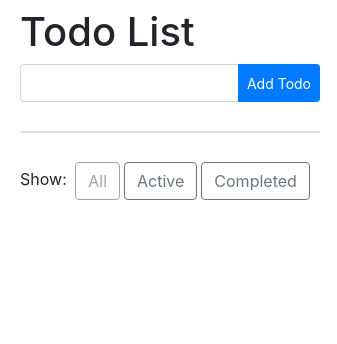
Test: let delete tasks
This screenshot has width=337, height=344.
Type "buy milk" into the field.
click(130, 83); type("buy milk")  # box [20, 64, 239, 102]
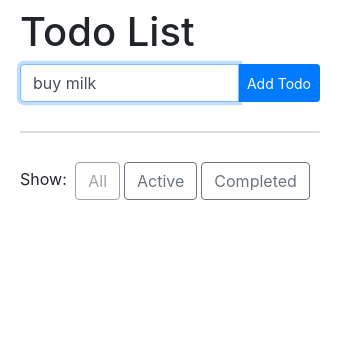
Submit the form with class "create-form", box [20, 64, 320, 102]
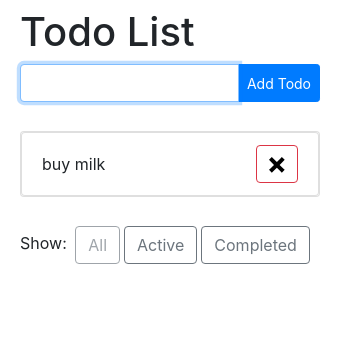
Type "buy bread" into the field.
click(130, 83); type("buy bread")  # box [20, 64, 239, 102]
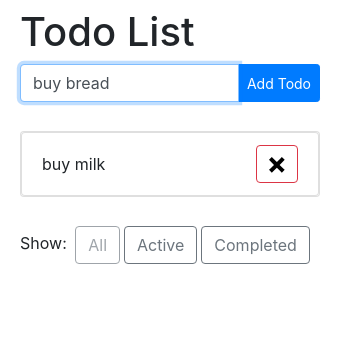
Submit the form with class "create-form", box [20, 64, 320, 102]
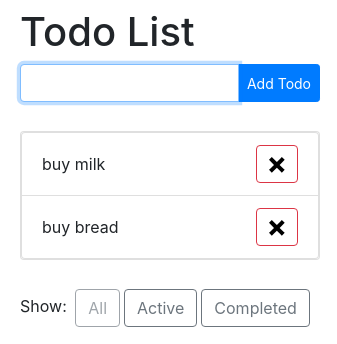
Check: the number of elements with class "list-group-item" is 2, box [21, 132, 319, 196]; [21, 195, 319, 259]
Click the button without text next to "buy milk".
click(277, 164)  # box [256, 145, 298, 183]
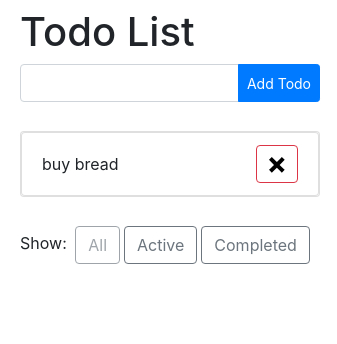
Check: the element with class "list-group-item" reads "buy bread", box [21, 132, 319, 196]
Check: the number of elements with class "list-group-item" is 1, box [21, 132, 319, 196]
